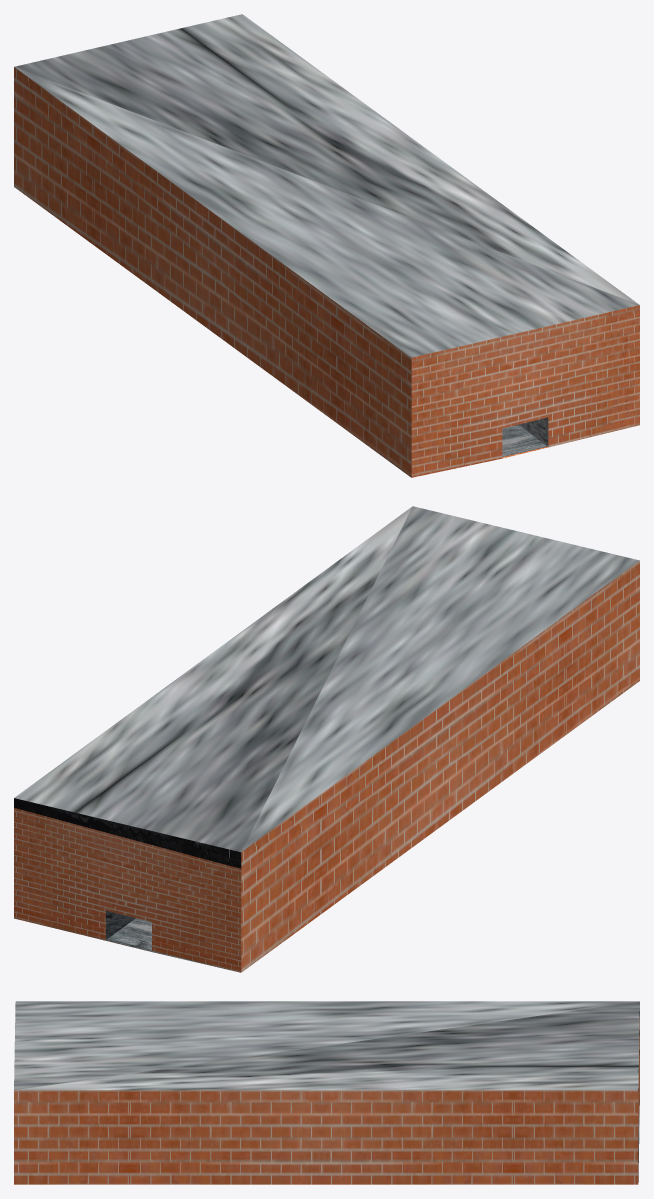
File: test_building.obj
3 views of the same model, one above another, from view 1: azimuth 30°, elevation 25°; view 2: azimuth 150°, elevation 25°; view 3: azimuth 270°, elevation 25° (orthographic). The views are drawn at different scales.
Parts seen in each view (by area): view 1: obj_0; view 2: obj_0; view 3: obj_0.
Boxes of the visible parts, <box> form: obj_0: <box>14,14,639,477</box>; obj_0: <box>14,506,639,972</box>; obj_0: <box>14,1001,639,1184</box>.
Bounding box in the file's own units: 19.83 × 10.17 × 60.15.
Materials: 1 (1 with a texture image).
